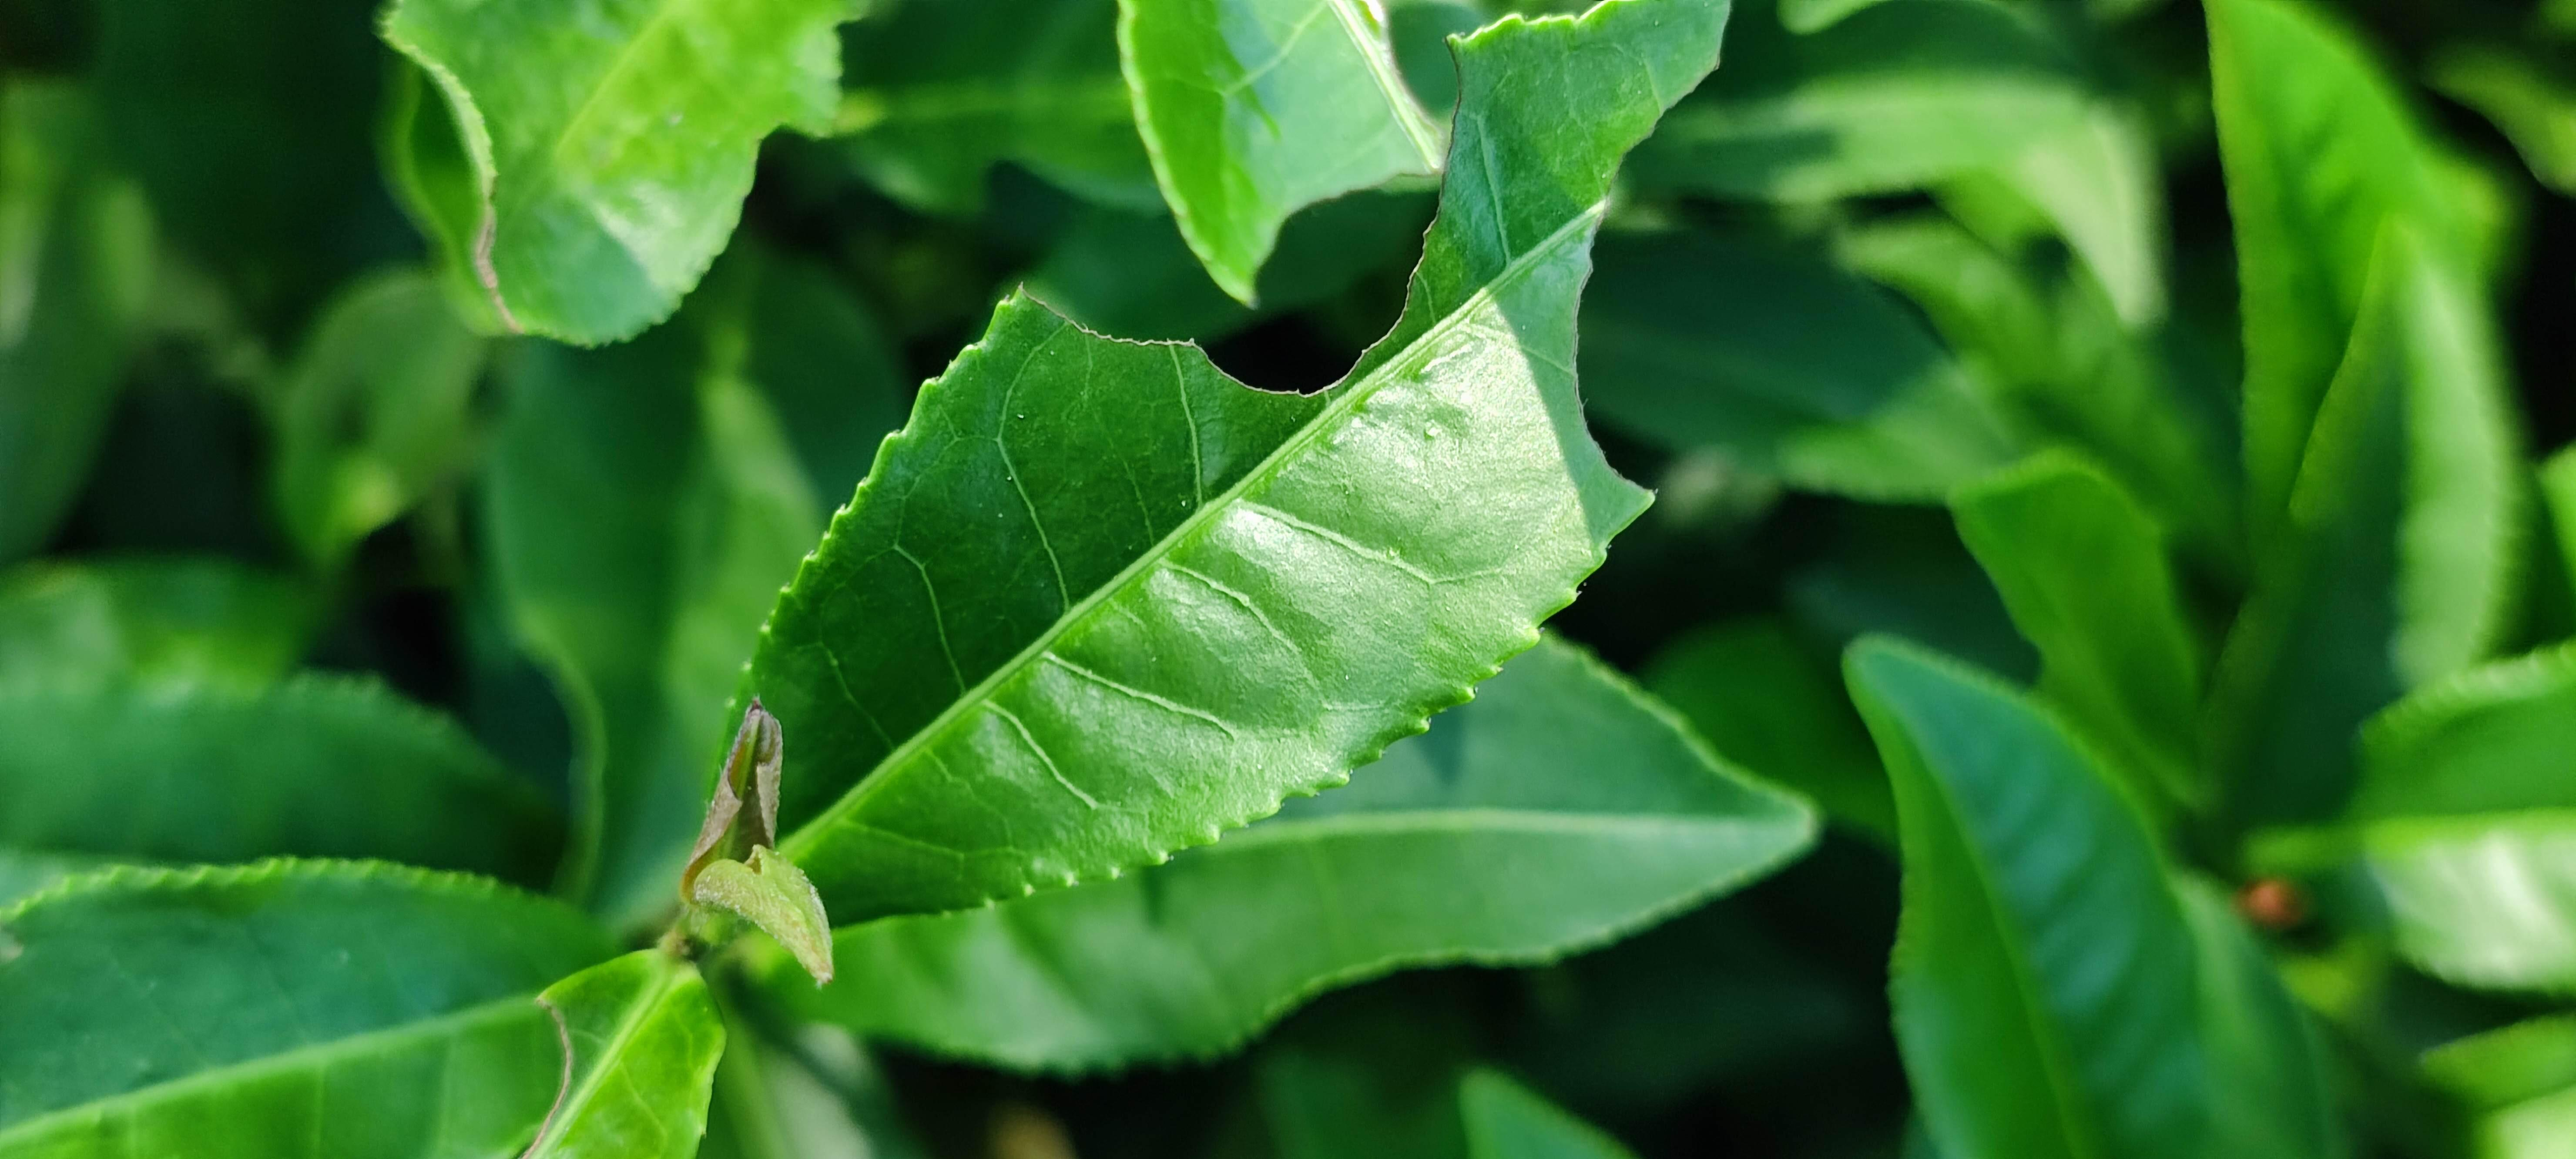chihuo_high: (700, 0, 1735, 939)
chihuo_low: (499, 949, 723, 1159)
healthy: (1838, 639, 2213, 1159)
